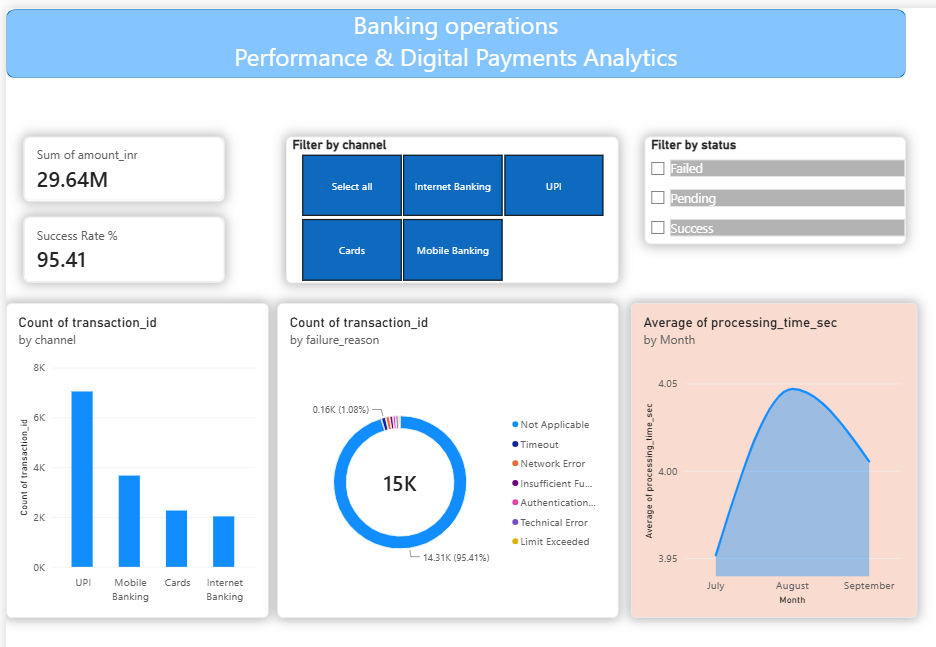

The page's visual inventory and layout, read from the dashboard file:
{"tool":"powerbi","page":{"name":"Page 1","canvas":[1920,1080],"ordinal":0},"visuals":[{"type":"shape","box":[0,1.7,1200,91.7],"z":0},{"type":"cardVisual","fields":{"Data":["Sum(transactions_cleaned.amount_inr)"]},"box":[23.3,171.7,268.3,86.7],"z":1000},{"type":"clusteredColumnChart","fields":{"Category":["transactions_cleaned.channel"],"Y":["CountNonNull(transactions_cleaned.transaction_id)"]},"box":[0,393.3,350,420],"z":2000},{"type":"donutChart","fields":{"Category":["transactions_cleaned.failure_reason"],"Y":["CountNonNull(transactions_cleaned.transaction_id)"]},"box":[361.7,393.3,455,420],"z":3000},{"type":"areaChart","fields":{"Category":["transactions_cleaned.transaction_date.Variation.Date Hierarchy.Month","transactions_cleaned.transaction_date.Variation.Date Hierarchy.Day"],"Y":["Avg(transactions_cleaned.processing_time_sec)"]},"box":[833.3,393.3,381.7,420],"z":4000},{"type":"slicer","fields":{"Values":["transactions_cleaned.channel"]},"box":[373.3,171.7,443.3,195],"z":5000},{"type":"textbox","box":[0,0,1200,93.3],"z":6000},{"type":"slicer","fields":{"Values":["transactions_cleaned.status"]},"box":[851.7,171.7,348.3,143.3],"z":7000},{"type":"cardVisual","fields":{"Data":["transactions_cleaned.Success Rate %"]},"box":[23.3,278.3,268.3,88.3],"z":7001}]}

Visuals, with their boxes on the page's 1920x1080 design canvas (x1, y1, x2, y2). These are canvas units, not pixel positions in the 936x647 screenshot, which may show the page scaled, cropped or inside an application window:
shape: x1=0, y1=2, x2=1200, y2=93
cardVisual - Sum(transactions_cleaned.amount_inr): x1=23, y1=172, x2=292, y2=258
clusteredColumnChart - transactions_cleaned.channel x CountNonNull(transactions_cleaned.transaction_id): x1=0, y1=393, x2=350, y2=813
donutChart - transactions_cleaned.failure_reason x CountNonNull(transactions_cleaned.transaction_id): x1=362, y1=393, x2=817, y2=813
areaChart - transactions_cleaned.transaction_date.Variation.Date Hierarchy.Month x transactions_cleaned.transaction_date.Variation.Date Hierarchy.Day: x1=833, y1=393, x2=1215, y2=813
slicer - transactions_cleaned.channel: x1=373, y1=172, x2=817, y2=367
textbox: x1=0, y1=0, x2=1200, y2=93
slicer - transactions_cleaned.status: x1=852, y1=172, x2=1200, y2=315
cardVisual - transactions_cleaned.Success Rate %: x1=23, y1=278, x2=292, y2=367
